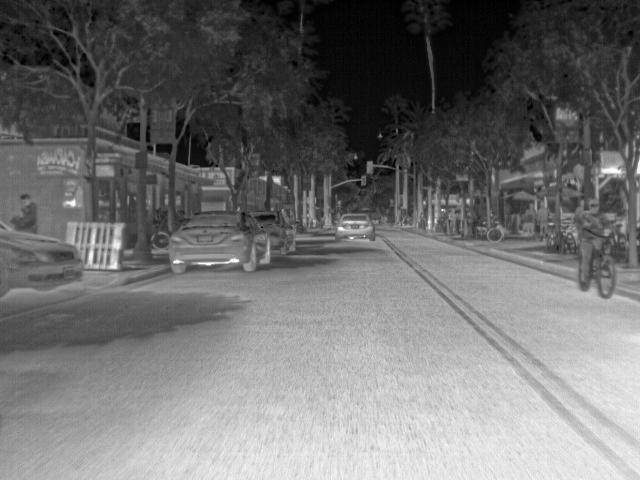car: (168, 210, 272, 276), (1, 220, 85, 299), (251, 211, 296, 258), (334, 211, 376, 243), (372, 212, 383, 225)
person: (578, 196, 611, 253), (10, 192, 40, 234), (536, 200, 551, 236), (526, 202, 539, 237), (575, 197, 584, 216), (448, 208, 459, 221), (280, 206, 288, 220)
